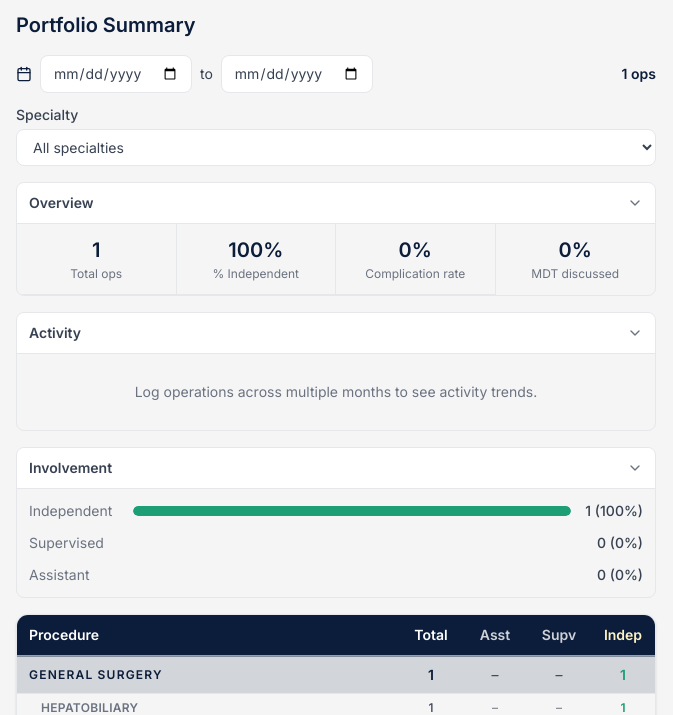
Portfolio › toggles Overview section
The width and height of the screenshot is (673, 715).
Expected: the text "Total ops" is shown, [70,266,122,281]
Click the button "Overview".
click(61, 202)  # box [17,183,655,223]
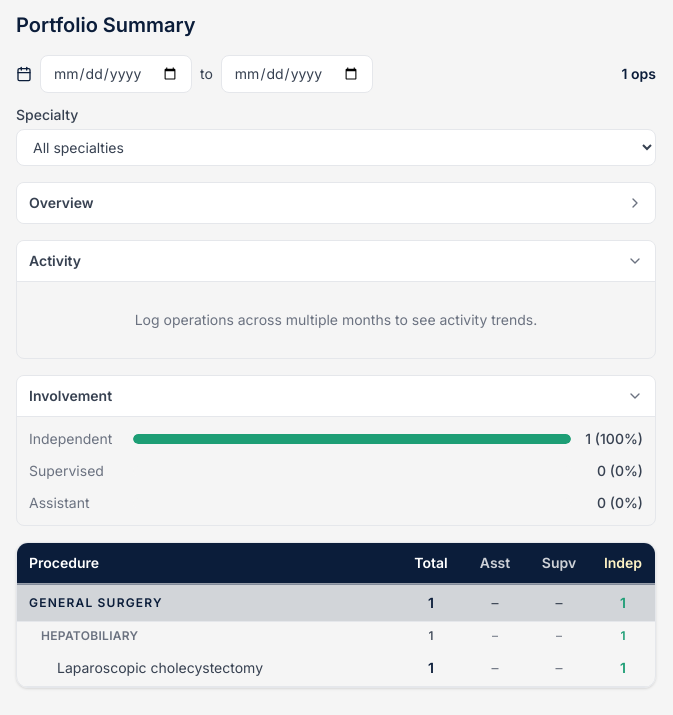
Expected: the text "Total ops" is gone
